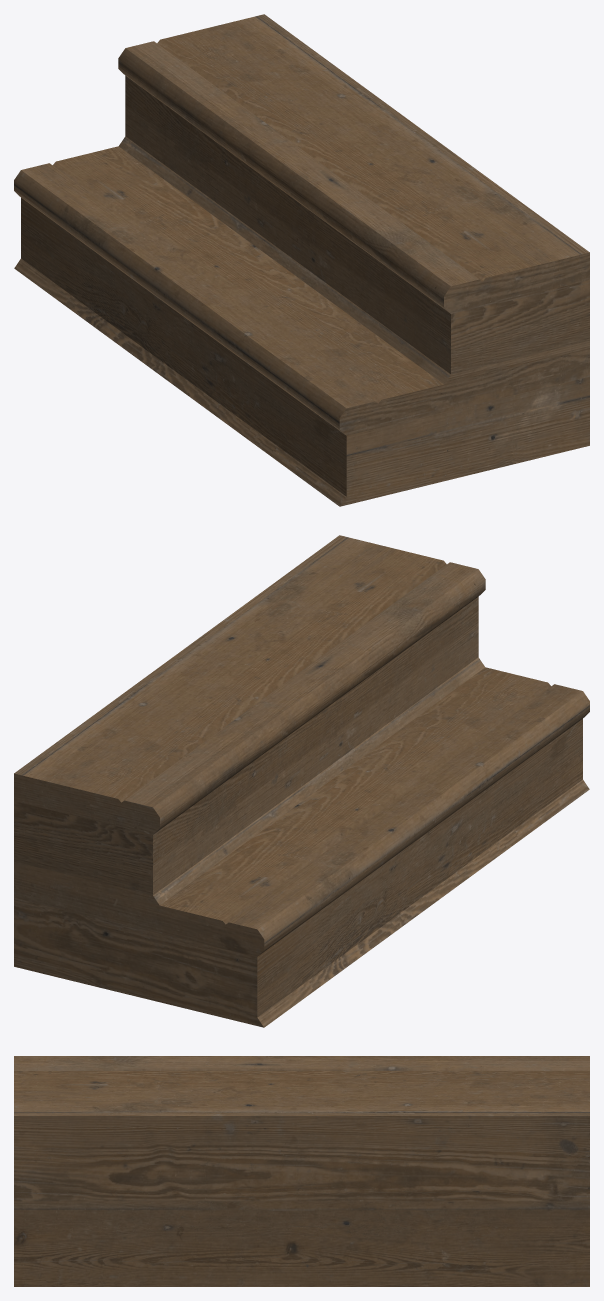
File: SM_Stair04D.fbx
The picture shows the model from 3 angles, top to bottom: view 1: azimuth 30°, elevation 25°; view 2: azimuth 150°, elevation 25°; view 3: azimuth 270°, elevation 25°; orthographic projection. The views are drawn at different scales.
Visible parts, largest first — view 1: SM_Stair04D; view 2: SM_Stair04D; view 3: SM_Stair04D.
Part boxes in pixels (x1,y1,x2,y2): SM_Stair04D: (14,14,589,506); SM_Stair04D: (14,535,589,1027); SM_Stair04D: (14,1056,589,1286).
Bounding box in the file's own units: 65.84 × 148 × 48.54.
Materials: 1 (1 with a texture image).
